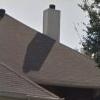Chimney: (35, 2, 72, 44)
